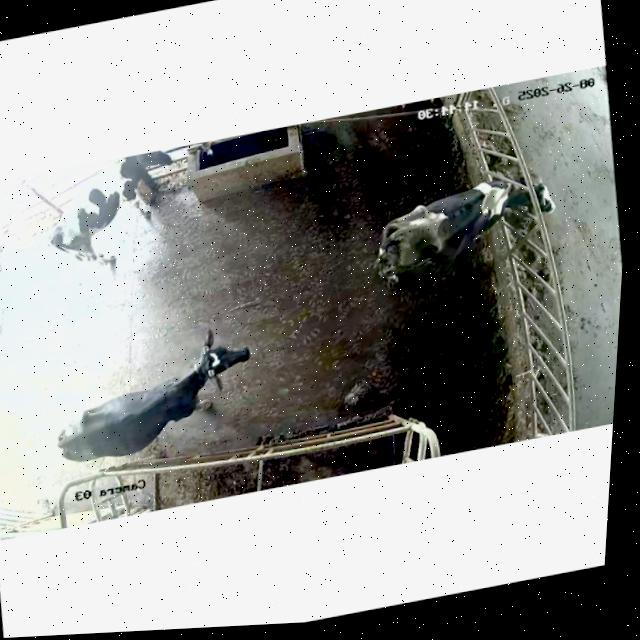stand: (24, 309, 287, 484), (29, 147, 191, 285)
